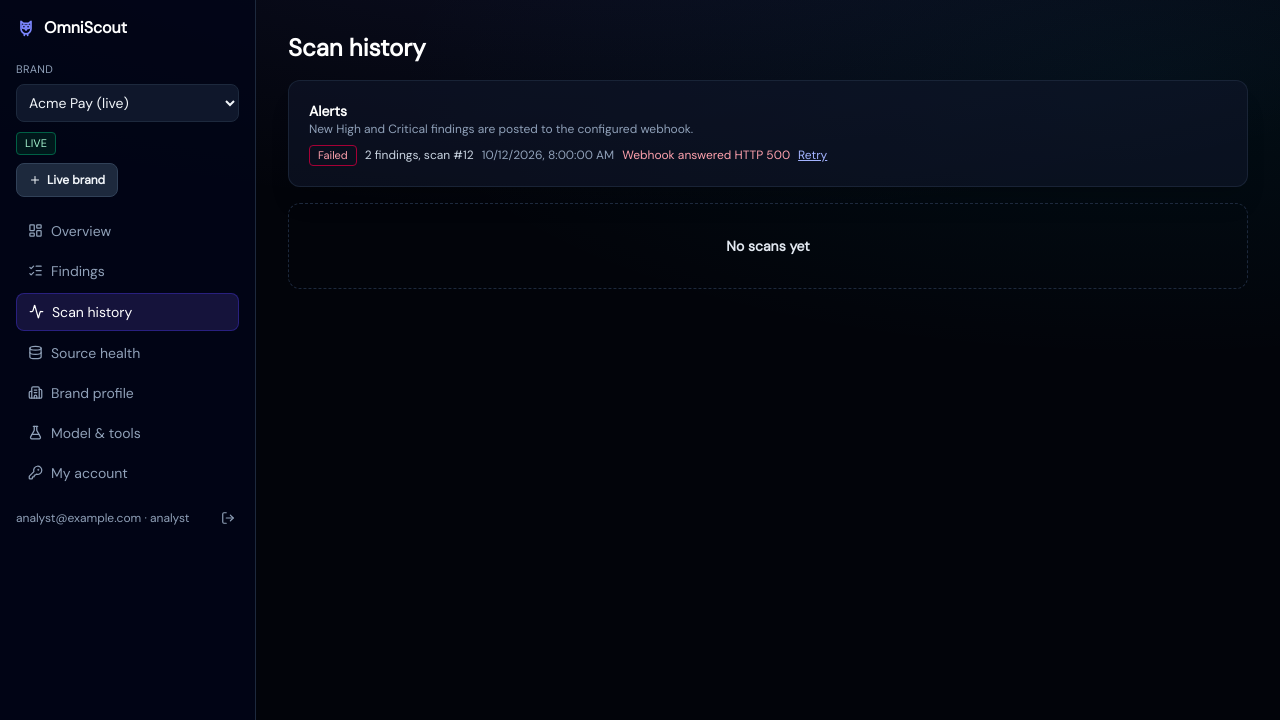
Scenario: dashboard › live monitoring honesty › shows alert deliveries, why one failed, and lets an analyst retry it
Expected: the text "Webhook answered HTTP 500" is shown, [622, 147, 790, 163]
What coordinates should you click on to do the following:
click the button "Retry"
I would click on:
 (813, 155)
Its box is [798, 147, 827, 163].
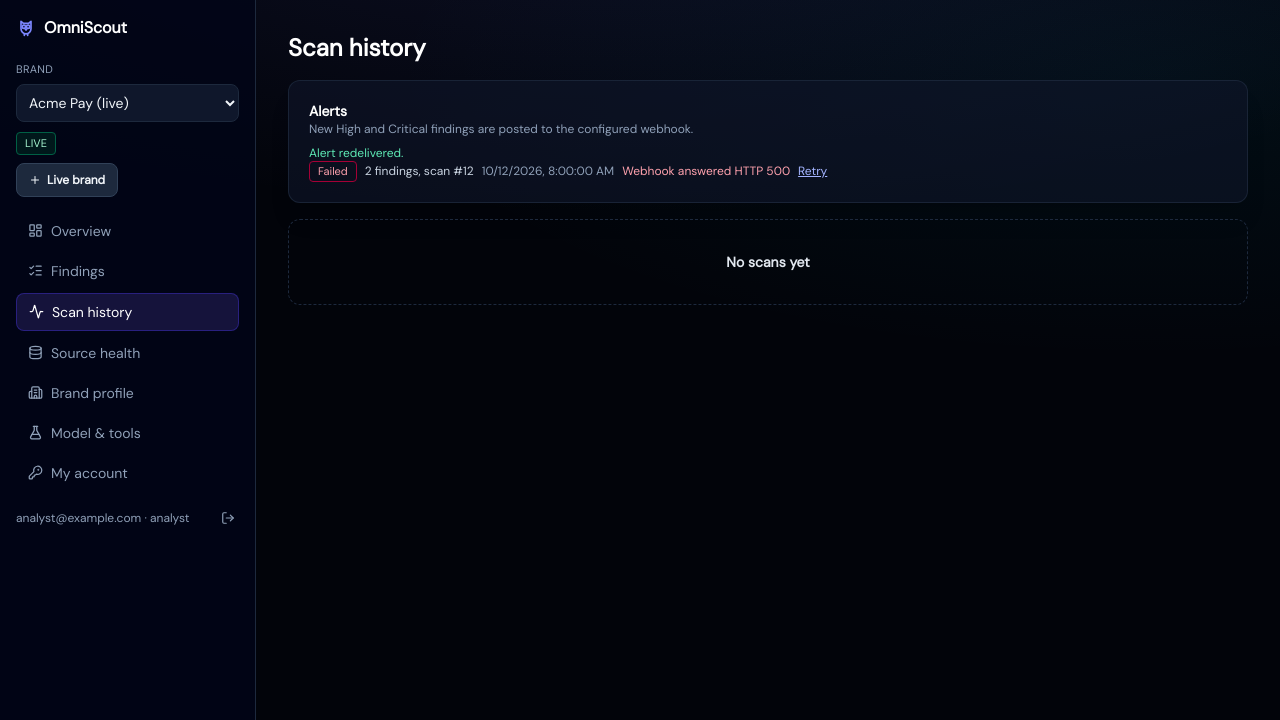
Now the text "Alert redelivered." is shown, box [309, 145, 404, 161]
